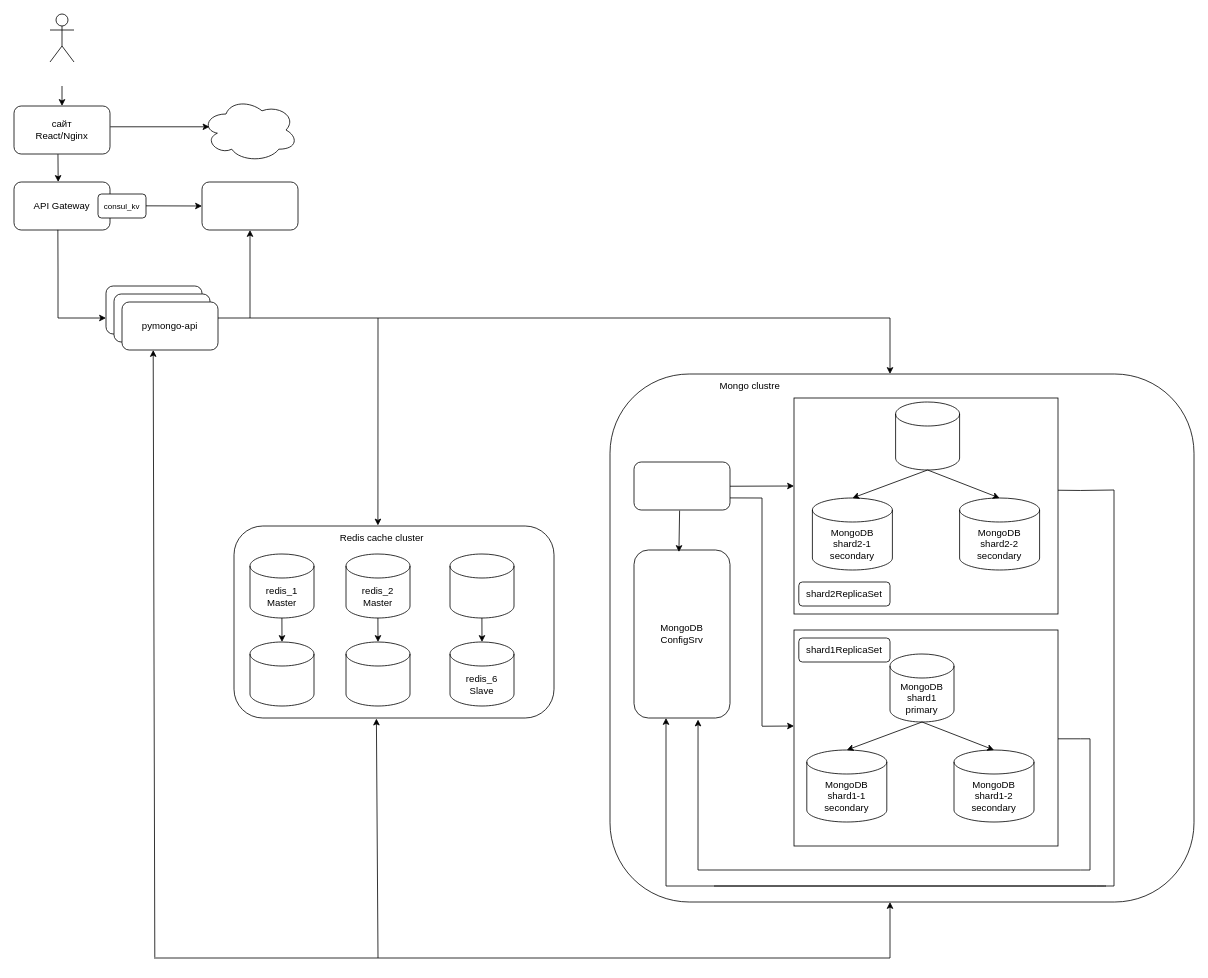
Some shapes in this 1208 by 978 pixel diagram are drawn without their labels. The box of each missing label's shape, as (x1, y1, x2, y2) in pixels:
CDN S3: (201, 97, 298, 162)
Client: (49, 13, 74, 62)
Consul: (201, 181, 298, 230)
MongoDB Router: (633, 461, 730, 510)
MongoDB shard2 primary: (895, 401, 960, 470)
redis_3 Master: (449, 553, 514, 618)
redis_4 Slave: (249, 641, 314, 706)
redis_5 Slave: (345, 641, 410, 706)
